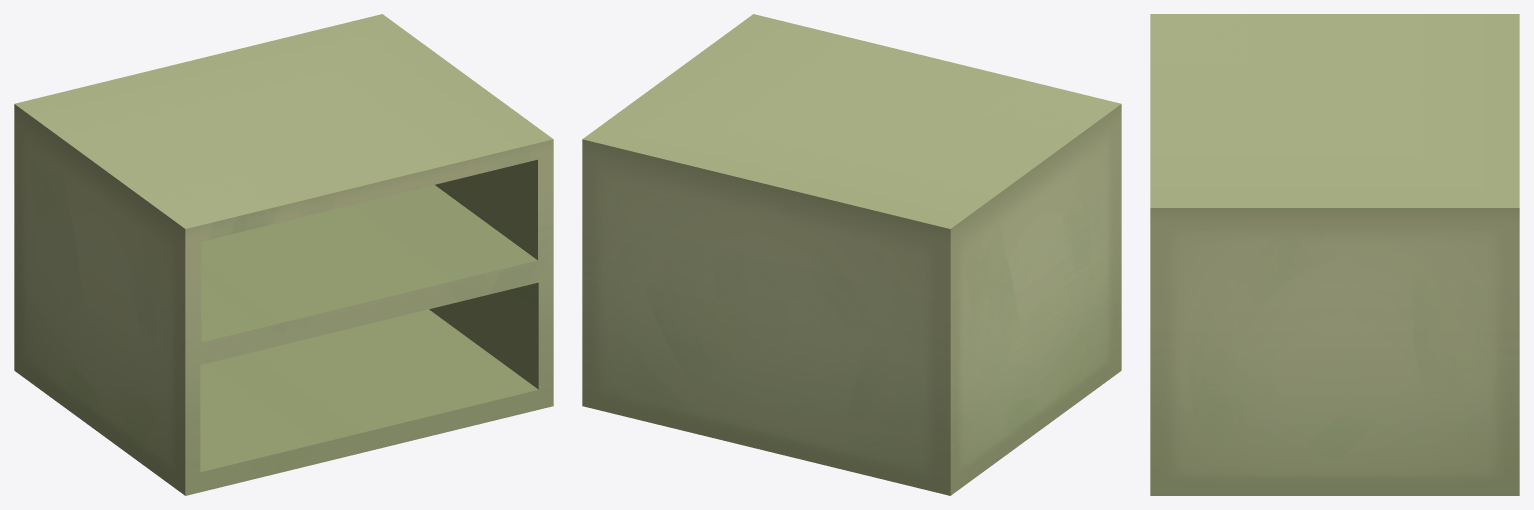
Rendered from TopCabinet.fbx.
3 renders of one model, left to right at view 1: azimuth 30°, elevation 25°; view 2: azimuth 150°, elevation 25°; view 3: azimuth 270°, elevation 25°, orthographic. The views are drawn at different scales.
Visible parts, largest first — view 1: TopCabinet; view 2: TopCabinet; view 3: TopCabinet.
Part boxes in pixels (left/top/right/bottom): TopCabinet: left=14, top=14, right=553, bottom=495; TopCabinet: left=582, top=14, right=1121, bottom=495; TopCabinet: left=1150, top=14, right=1519, bottom=495.
Size of the model in its own units: 106 by 73.31 by 85.24.
